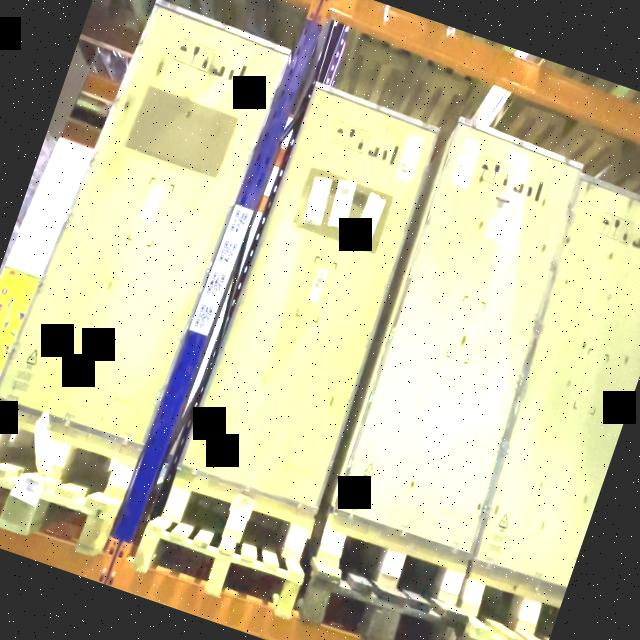box: (20, 3, 284, 449), (188, 88, 440, 507), (332, 127, 582, 545)
